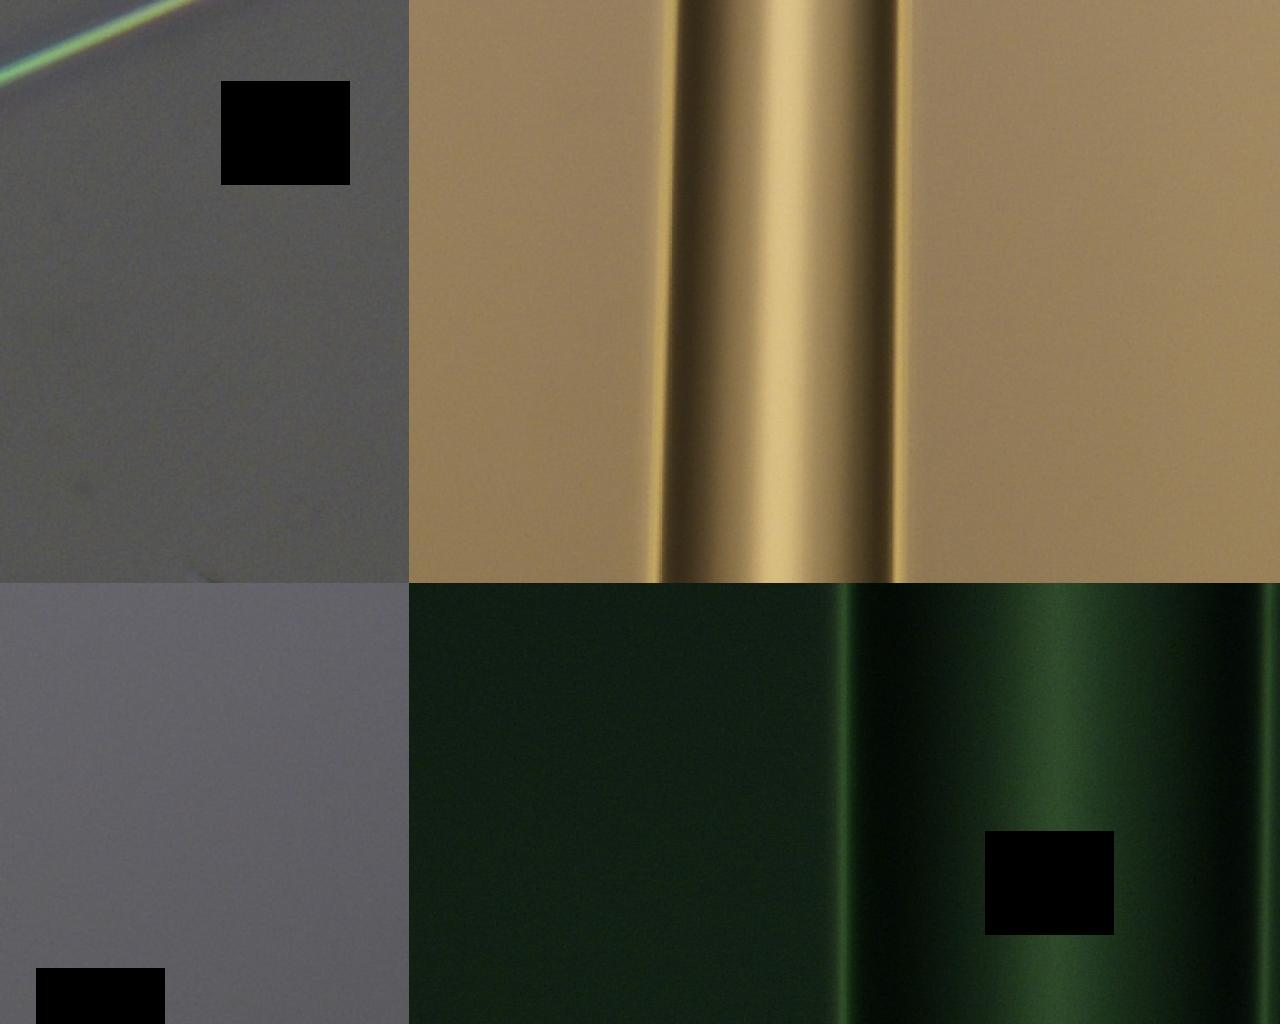fiber: (550, 552, 783, 1024), (622, 0, 677, 552)
